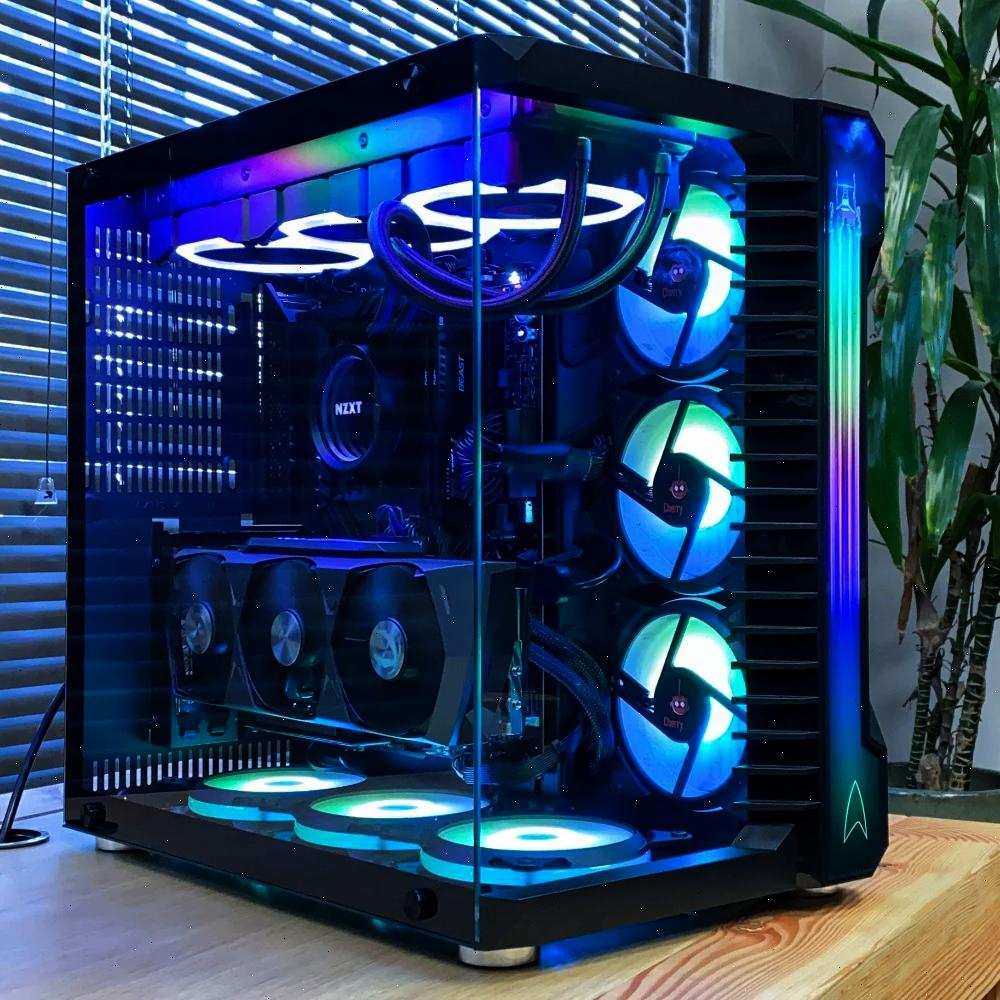pc: (40, 12, 908, 980)
